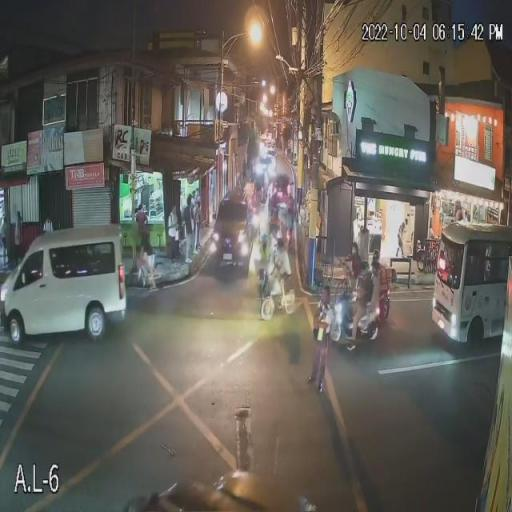motorcycle: (328, 283, 382, 351), (256, 270, 296, 321), (214, 232, 240, 275), (370, 274, 392, 322), (270, 214, 296, 252), (250, 200, 271, 237)
rider: (255, 231, 288, 298), (346, 256, 374, 334), (214, 216, 240, 254), (270, 189, 291, 224), (369, 250, 384, 296), (250, 181, 270, 212)
